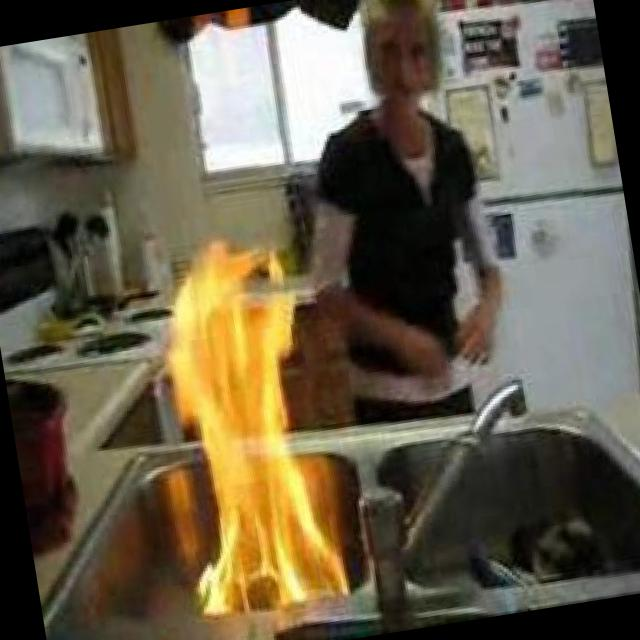Fire: (147, 230, 357, 624)
